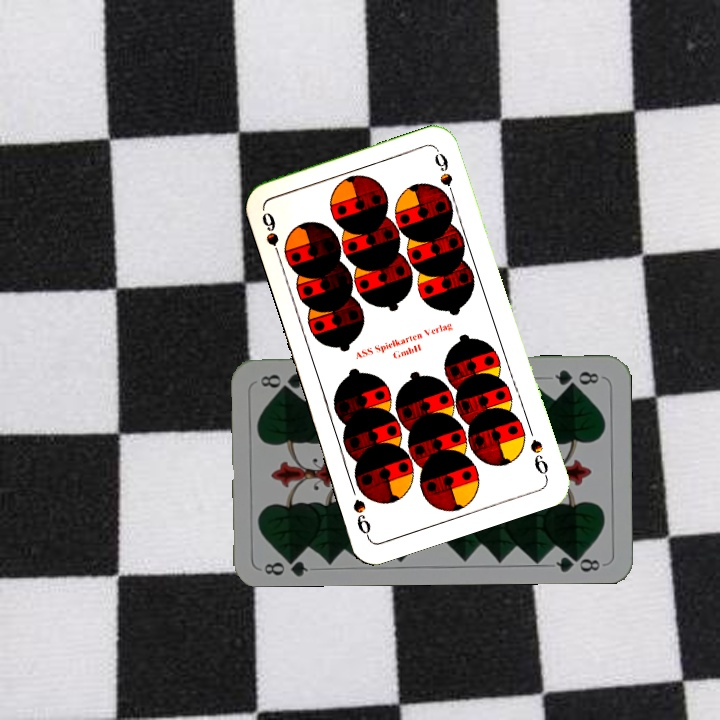G8: (260, 551, 310, 578), (551, 365, 602, 389)
S9: (258, 208, 285, 264), (525, 435, 551, 481)
